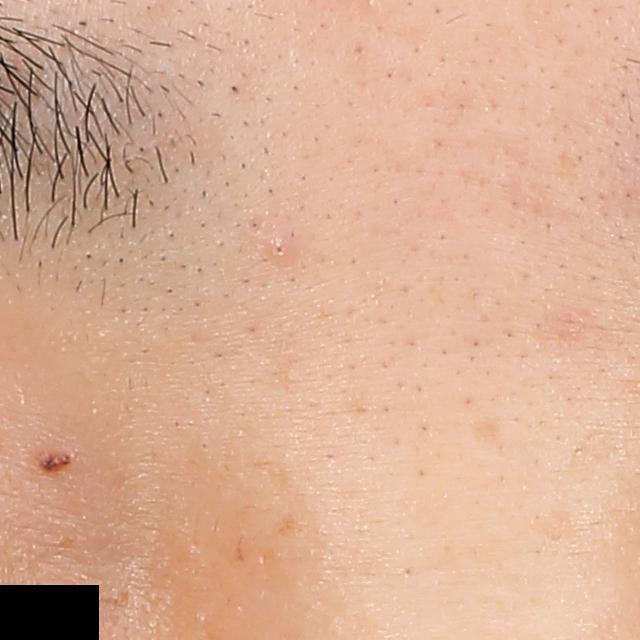papule: (263, 235, 297, 266)
